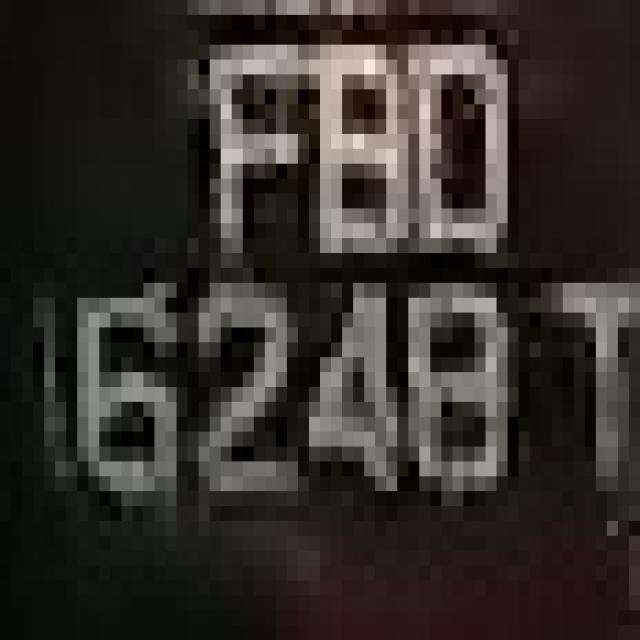2: (154, 268, 298, 521)
4: (287, 268, 408, 536)
6: (55, 283, 188, 506)
8: (397, 253, 508, 536)
B: (308, 0, 397, 327)
D: (386, 30, 530, 268)
F: (199, 0, 320, 283)
T: (518, 253, 640, 536)
